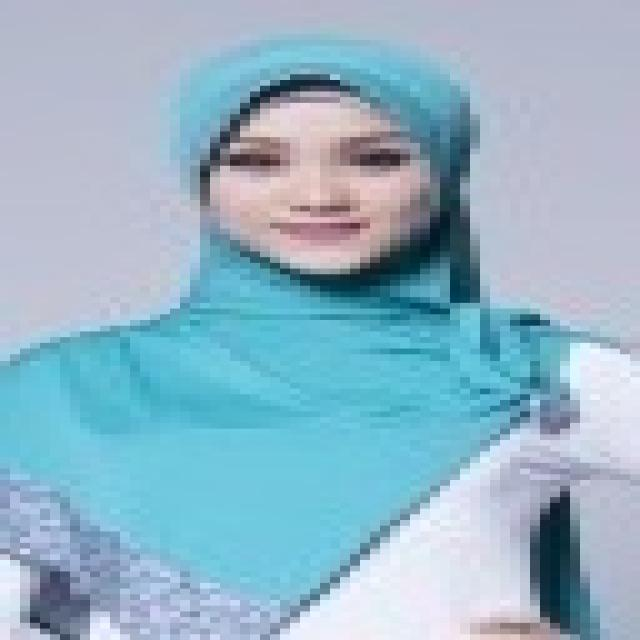head: (152, 33, 509, 285)
